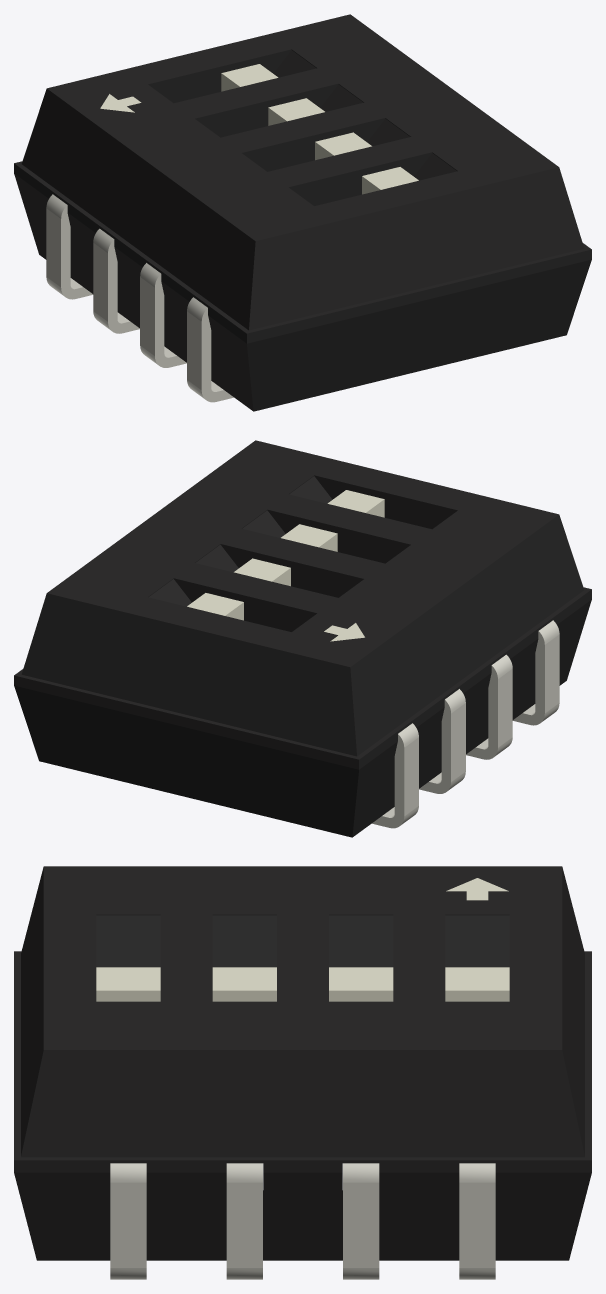
Rendered from kc-sw_dip_spstx04_slide_copal_chs-04a_w5.08mm_p1.27mm_jpin.glb.
3 renders of one model, top to bottom at view 1: azimuth 30°, elevation 25°; view 2: azimuth 150°, elevation 25°; view 3: azimuth 270°, elevation 25°, orthographic. The views are drawn at different scales.
Parts seen in each view (by area): view 1: 0_0_0_0, 0.6666666666666666_0.6666666666666666_0.5833333333333334_0.8, 0.75_0.75_0.6666666666666666_0; view 2: 0_0_0_0, 0.6666666666666666_0.6666666666666666_0.5833333333333334_0.8, 0.75_0.75_0.6666666666666666_0; view 3: 0_0_0_0, 0.6666666666666666_0.6666666666666666_0.5833333333333334_0.8, 0.75_0.75_0.6666666666666666_0.
Boxes of the visible parts, x1,y1,x2,y2 form: 0_0_0_0: (14, 14, 591, 411); 0.6666666666666666_0.6666666666666666_0.5833333333333334_0.8: (46, 194, 233, 402); 0.75_0.75_0.6666666666666666_0: (100, 64, 418, 194); 0_0_0_0: (14, 440, 591, 837); 0.6666666666666666_0.6666666666666666_0.5833333333333334_0.8: (372, 620, 559, 828); 0.75_0.75_0.6666666666666666_0: (187, 490, 384, 641); 0_0_0_0: (14, 866, 591, 1260); 0.6666666666666666_0.6666666666666666_0.5833333333333334_0.8: (110, 1163, 495, 1279); 0.75_0.75_0.6666666666666666_0: (96, 878, 509, 1001).
Bounding box in the file's own units: 0.56 × 0.265 × 0.631.
